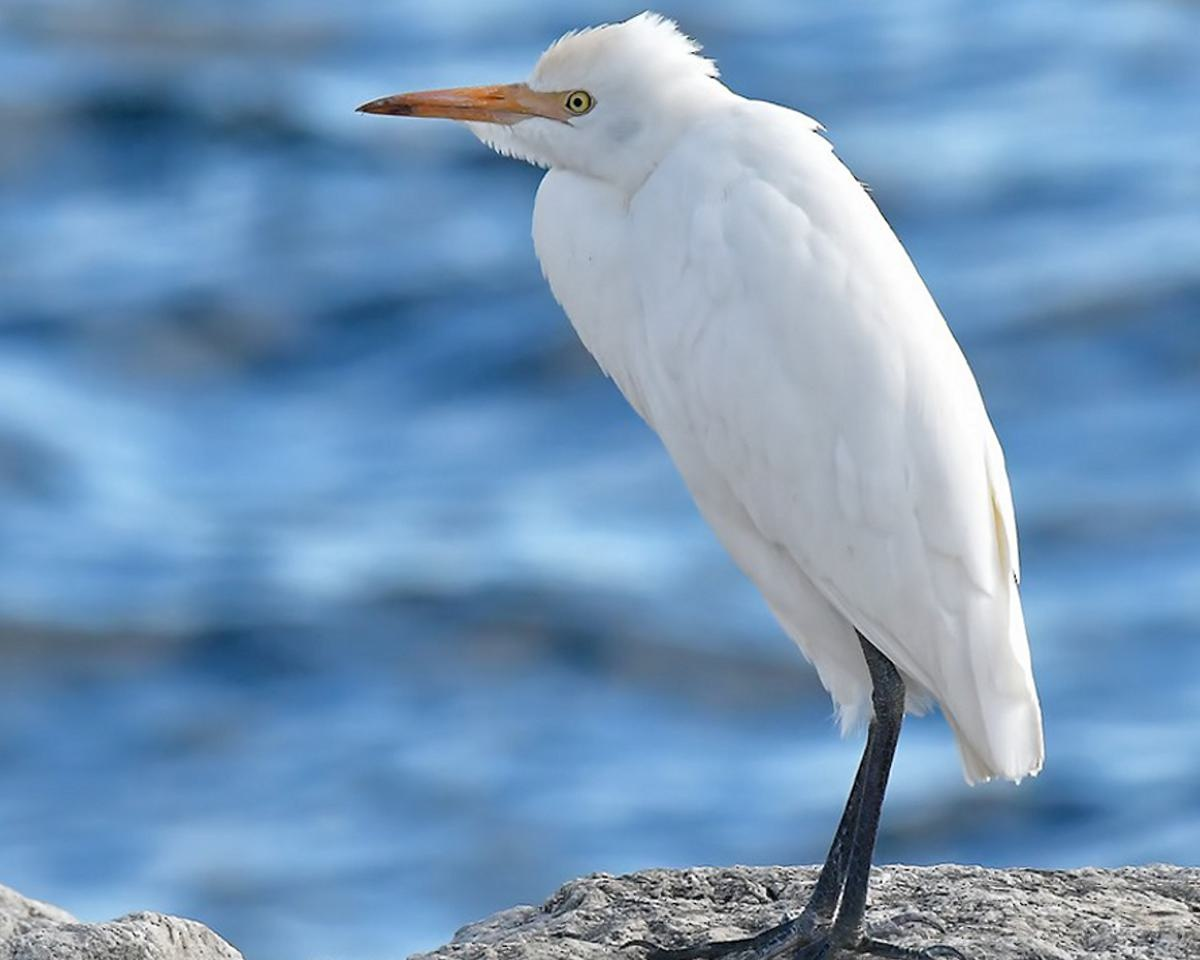egret: (345, 19, 1047, 936)
